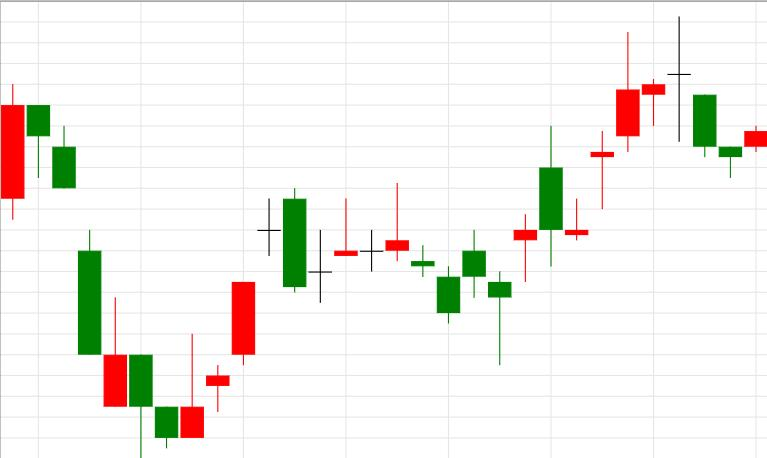inverse_hammer_rise: (27, 106, 205, 458)
